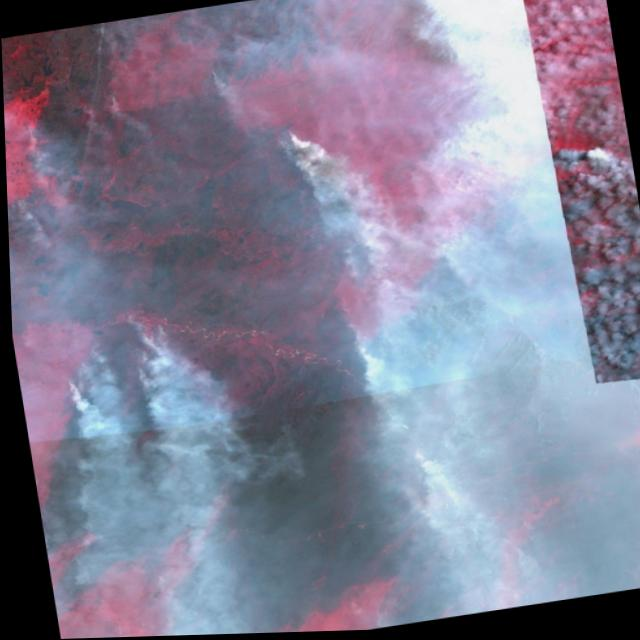fire: (54, 313, 178, 403), (265, 122, 331, 182)
